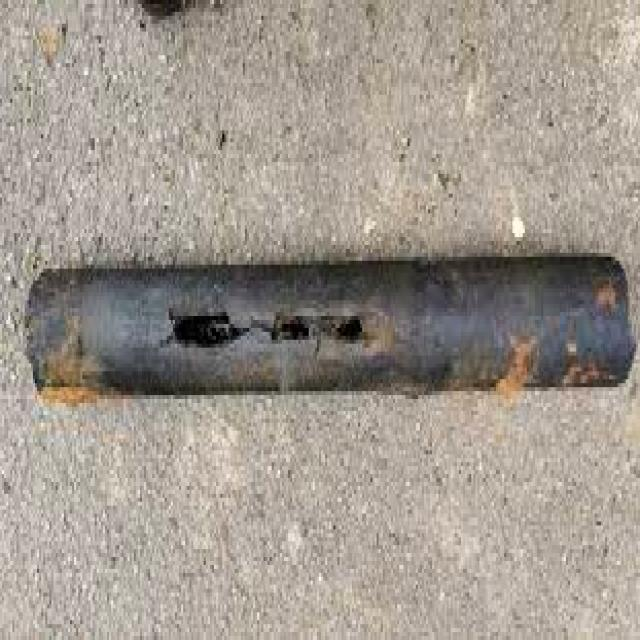crack: (169, 311, 251, 349), (255, 319, 312, 343), (332, 315, 368, 345)
